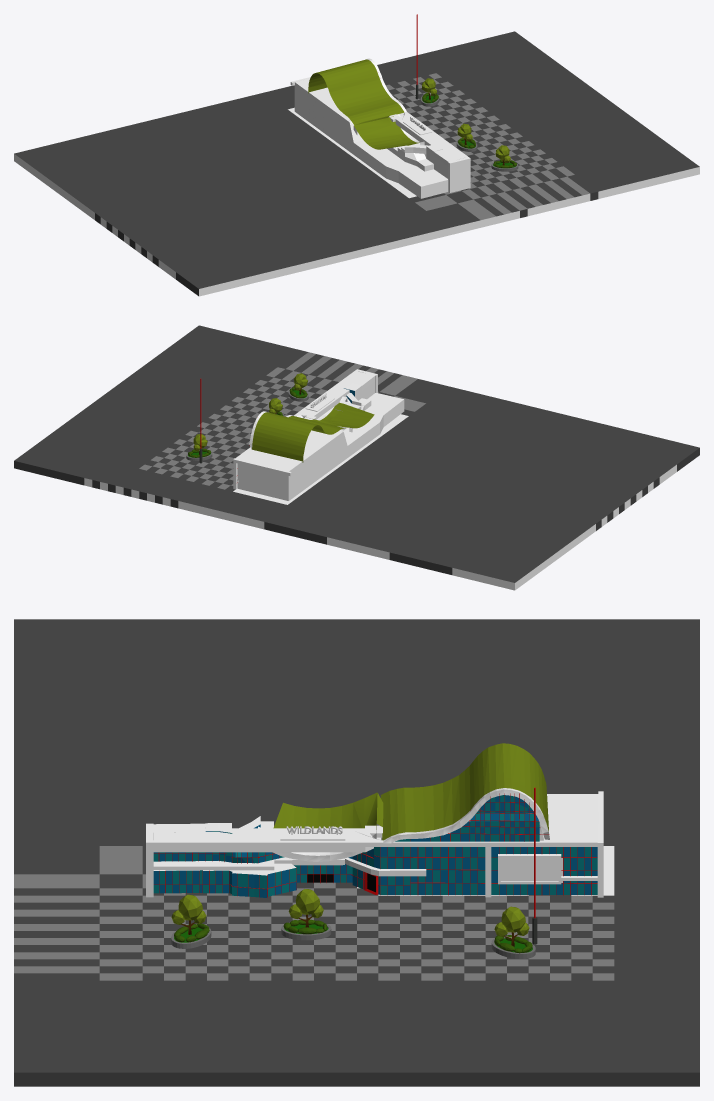
Rendered from WilandsOutside.fbx.
3 views of the same model, one above another, from view 1: azimuth 30°, elevation 25°; view 2: azimuth 150°, elevation 25°; view 3: azimuth 270°, elevation 25° (orthographic). The views are drawn at different scales.
Visible parts, largest first — view 1: Cube; view 2: Cube; view 3: Cube.
Part boxes in pixels (<box>): Cube: <box>14,14,699,296</box>; Cube: <box>14,325,699,590</box>; Cube: <box>14,619,699,1086</box>.
Size of the model in its own units: 7366 by 1287 by 4712.
